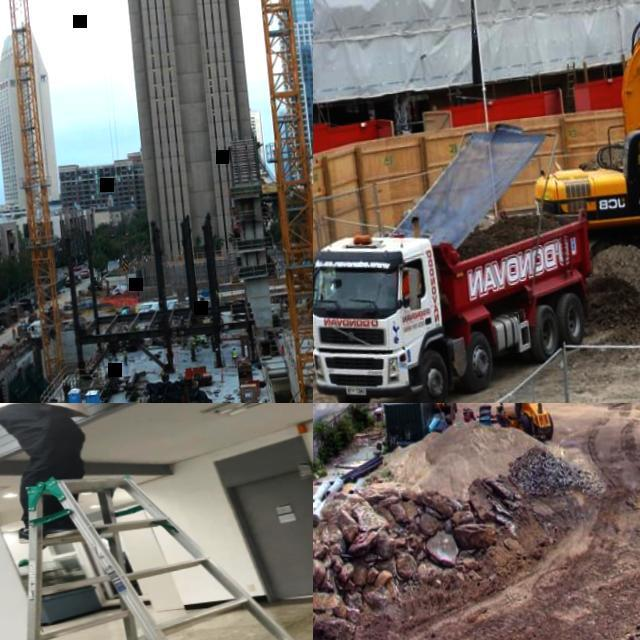helmet: (124, 347, 126, 349)
vest: (190, 341, 196, 348), (232, 348, 237, 356), (123, 351, 127, 356), (282, 346, 284, 352)
